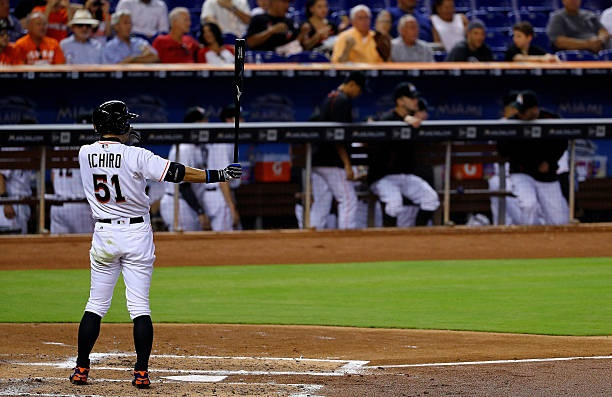bita: (221, 35, 248, 180)
